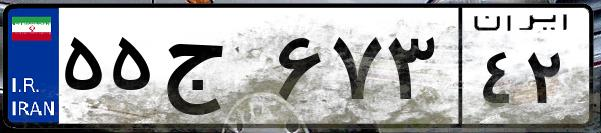2: (525, 38, 570, 115)
3: (385, 28, 445, 110)
4: (475, 38, 525, 113)
5: (57, 26, 110, 100), (110, 28, 158, 98)
6: (270, 28, 330, 110)
7: (330, 28, 385, 110)
ج: (158, 20, 270, 120)
